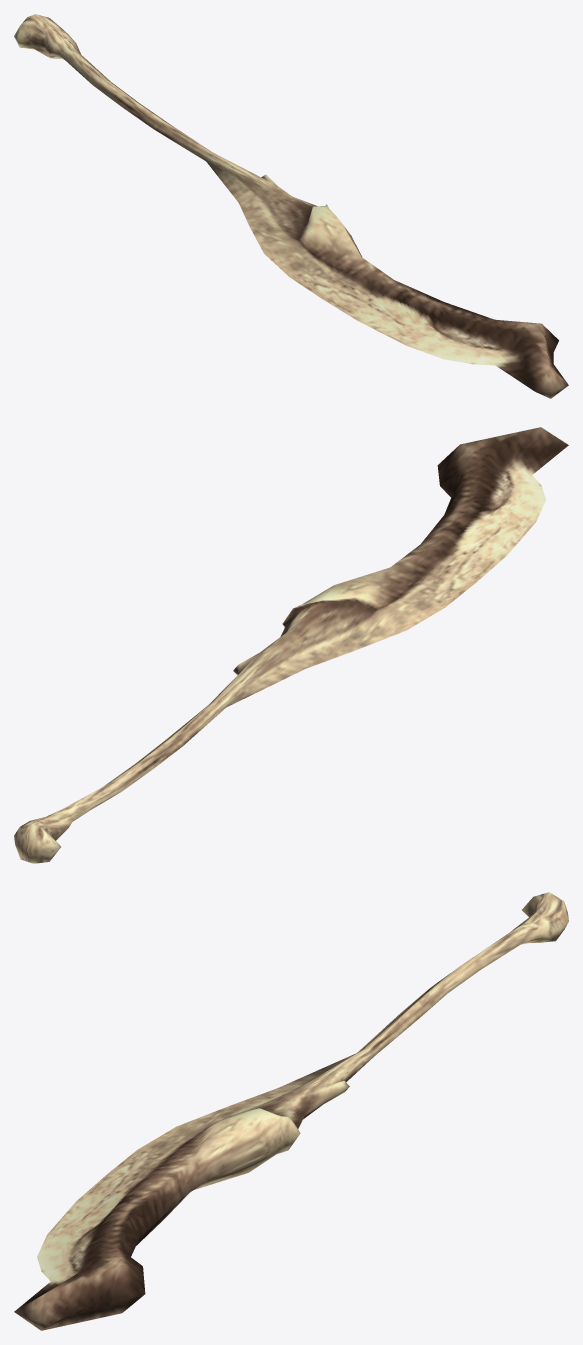
Rendered from we028_amh.OBJ.
3 views of the same model, one above another, from view 1: azimuth 30°, elevation 25°; view 2: azimuth 150°, elevation 25°; view 3: azimuth 330°, elevation 25° (orthographic). The views are drawn at different scales.
Visible parts, largest first — view 1: mesh_0; view 2: mesh_0; view 3: mesh_0.
Part boxes in pixels (x1=…): mesh_0: x1=14, y1=14, x2=568, y2=398; mesh_0: x1=14, y1=427, x2=568, y2=863; mesh_0: x1=14, y1=892, x2=568, y2=1330.
Bounding box in the file's own units: 44.37 × 13.72 × 279.
Materials: 1 (1 with a texture image).
